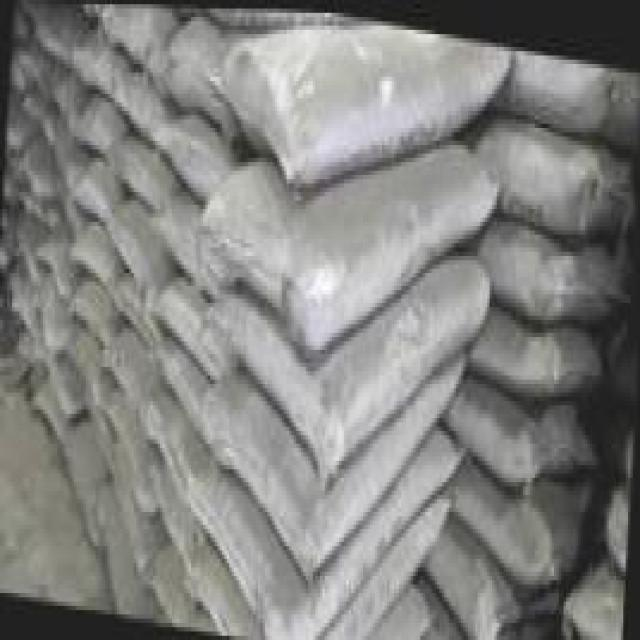gunny_bag: (190, 137, 498, 349), (208, 254, 496, 478), (207, 353, 468, 580), (191, 432, 460, 640), (232, 19, 510, 183), (317, 489, 450, 640), (490, 121, 632, 228), (456, 381, 598, 482), (494, 221, 622, 328), (458, 476, 584, 578), (162, 14, 249, 149), (508, 57, 640, 135), (481, 315, 602, 393), (430, 526, 512, 640), (159, 111, 246, 199), (143, 398, 202, 511), (160, 280, 226, 379), (108, 204, 170, 303), (115, 141, 174, 212), (154, 342, 205, 421), (109, 4, 171, 65), (571, 571, 625, 640), (118, 78, 169, 144), (604, 488, 631, 575)
